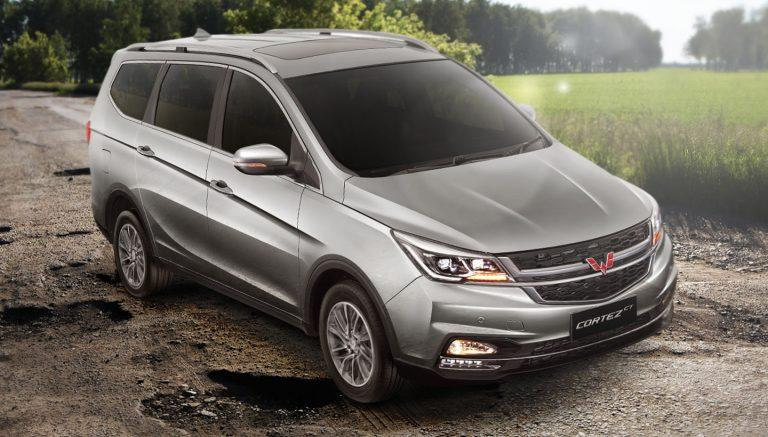Pothole: (113, 357, 492, 437), (660, 262, 748, 390), (0, 214, 103, 288), (0, 298, 175, 333), (22, 164, 109, 183)
